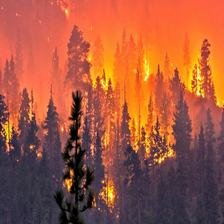fire: (40, 18, 219, 163)
